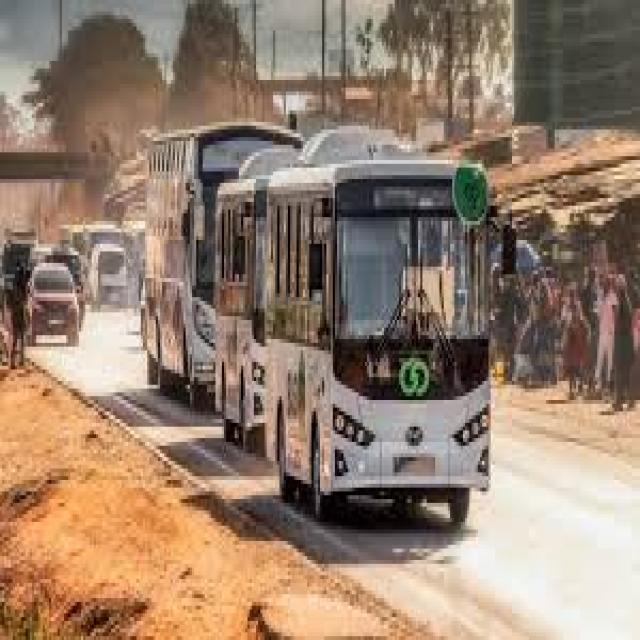bus: (258, 90, 533, 554)
